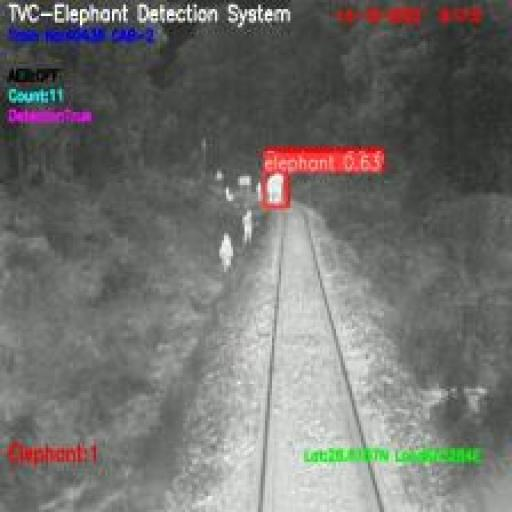Elephant: (263, 171, 284, 208)
